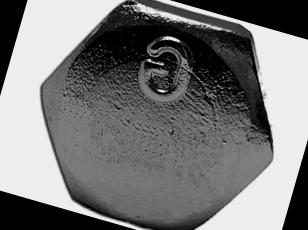hexagonal: (9, 0, 304, 230)
